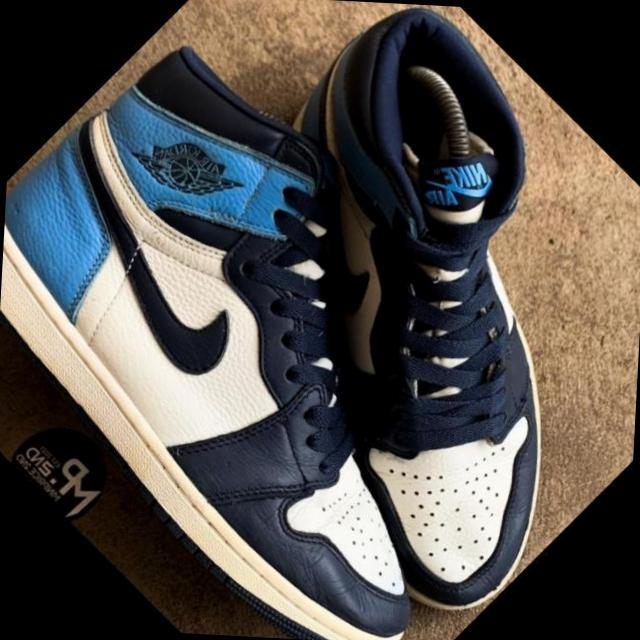nike_original_jordan: (0, 0, 633, 640), (67, 0, 640, 640)
